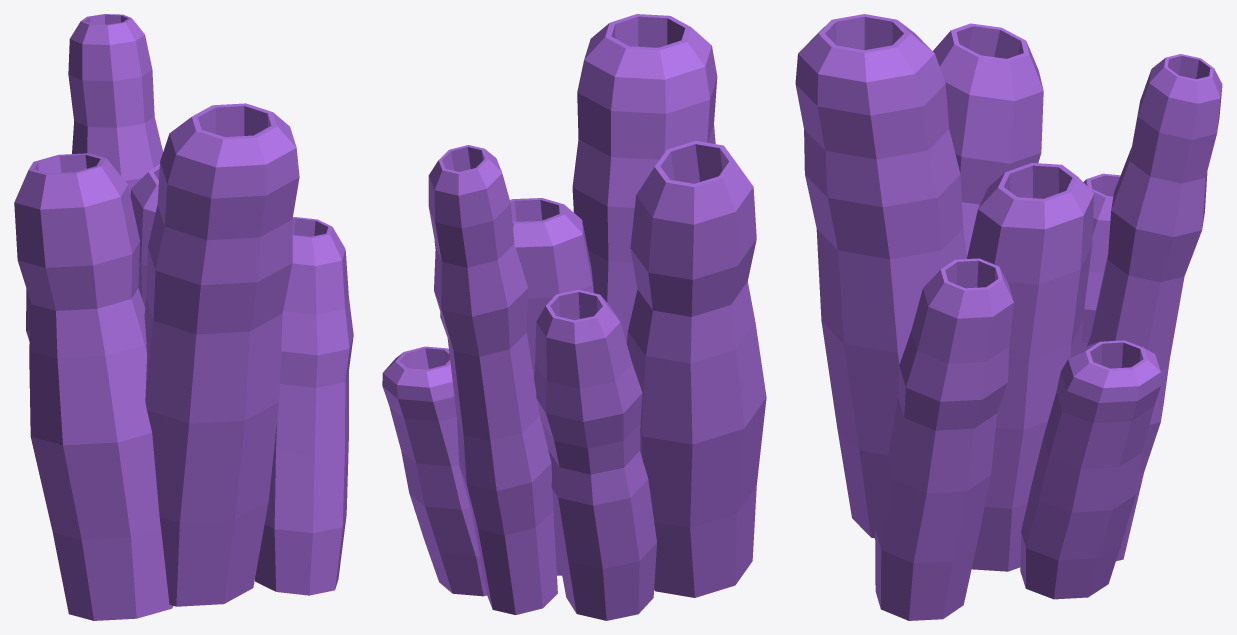
Rendered from coral3.fbx.
3 views of the same model, side by side, from view 1: azimuth 30°, elevation 25°; view 2: azimuth 150°, elevation 25°; view 3: azimuth 270°, elevation 25° (orthographic). The views are drawn at different scales.
Visible parts, largest first — view 1: CORAL3; view 2: CORAL3; view 3: CORAL3.
Part boxes in pixels (x1,y1,x2,y2): CORAL3: (14,14,353,620); CORAL3: (382,14,766,620); CORAL3: (795,14,1222,620).
Size of the model in its own units: 50.44 by 78.56 by 57.98.
